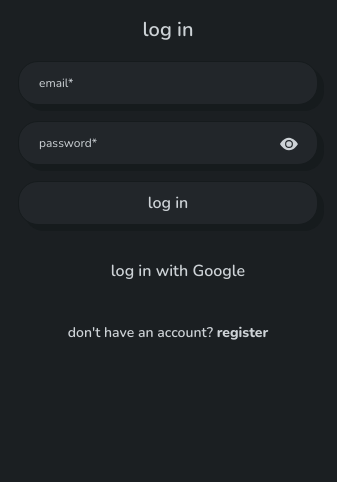
Auth component › changes form when clicked to show register
This screenshot has width=337, height=482.
Expected: the heading "log in" is shown, [143,16,193,43]
Click the button "don't have an account? register" at (168,332), box [18,322,318,343]
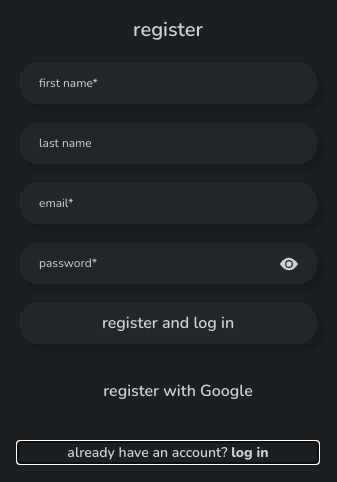
Expected: the field with placeholder "first name*" is shown, [18,61,318,105]
Expected: the field with placeholder "last name" is shown, [18,121,318,165]
